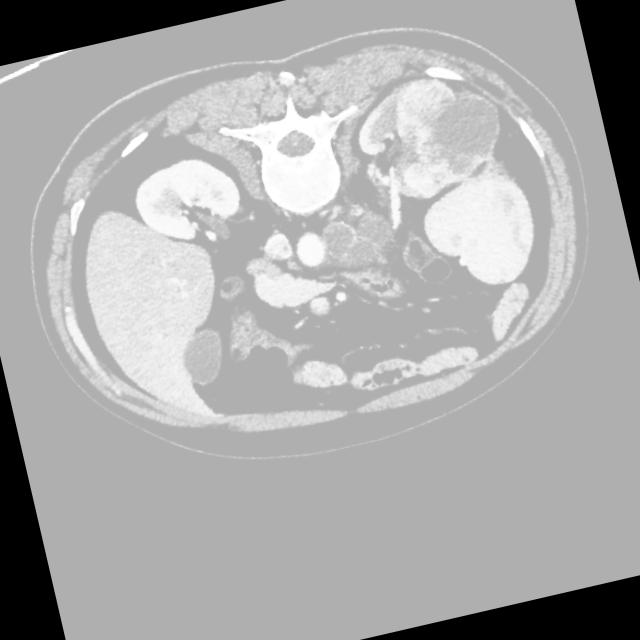TUMOR: (59, 83, 565, 399)
